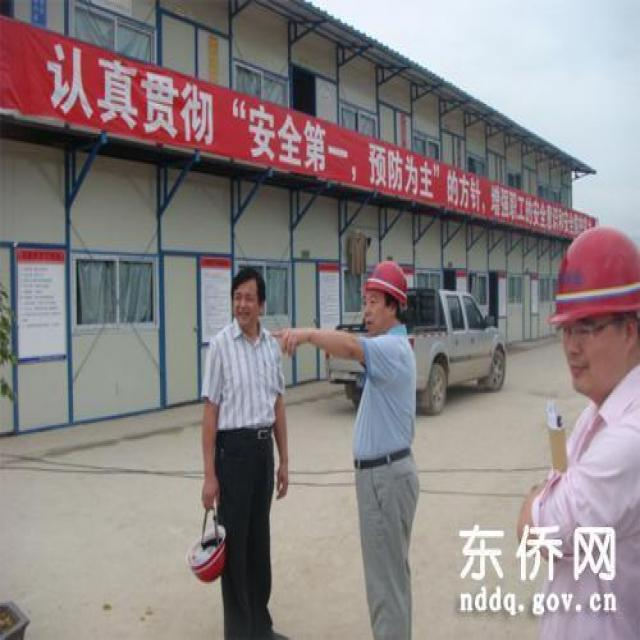hat: (549, 220, 640, 395), (361, 259, 412, 332)
no hat: (228, 262, 269, 334)
